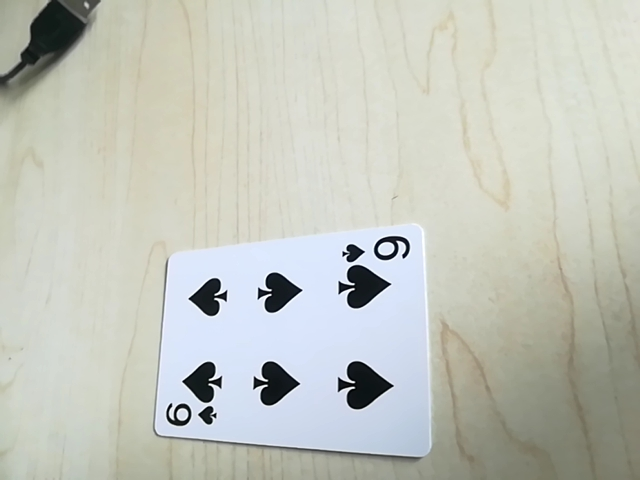ht 6: (340, 229, 414, 264), (159, 401, 220, 432)
